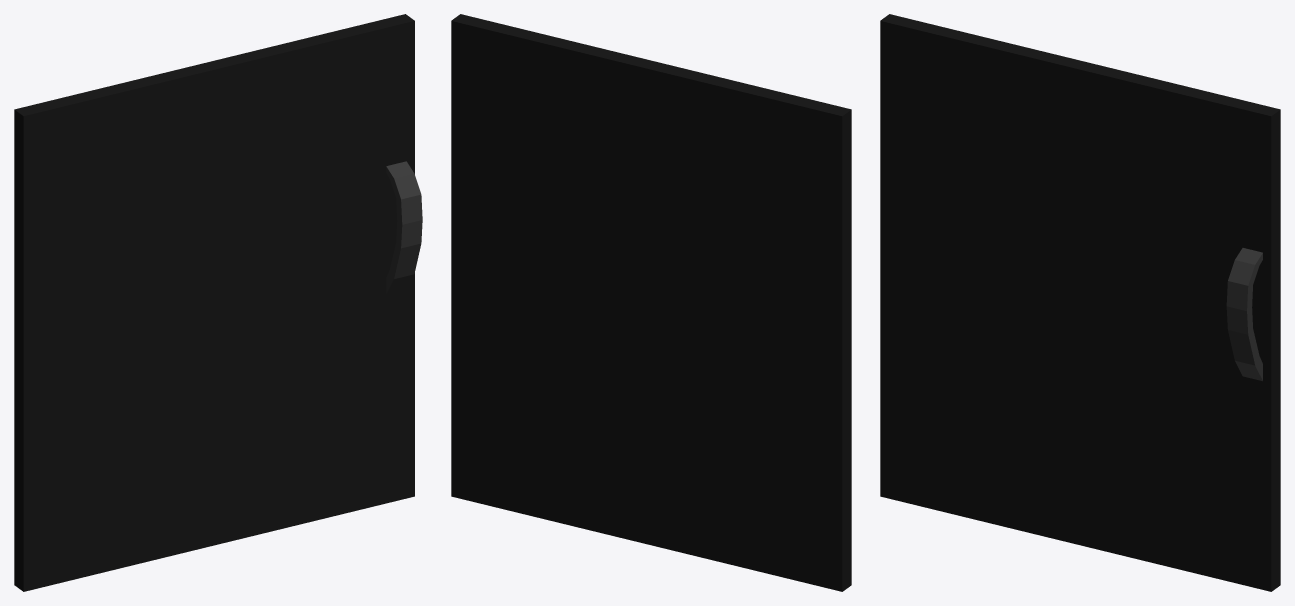
Rendered from Expositor_Glass_Door_1.obj.
3 views of the same model, side by side, from view 1: azimuth 30°, elevation 25°; view 2: azimuth 150°, elevation 25°; view 3: azimuth 330°, elevation 25° (orthographic).
Parts seen in each view (by area): view 1: Expositor_Glass_Door_1; view 2: Expositor_Glass_Door_1; view 3: Expositor_Glass_Door_1.
Boxes of the visible parts, bbox=[...] form: Expositor_Glass_Door_1: bbox=[14, 14, 422, 591]; Expositor_Glass_Door_1: bbox=[451, 14, 851, 591]; Expositor_Glass_Door_1: bbox=[880, 14, 1280, 591].
Bounding box in the file's own units: 0.662 × 0.7689 × 0.0745.
